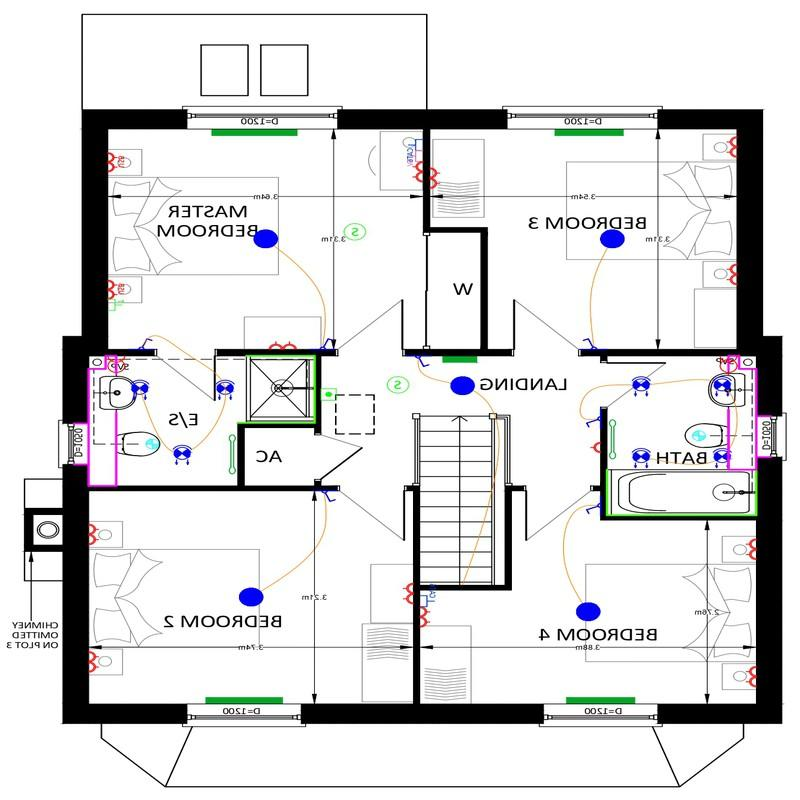Cat 6 Data Socket: (418, 587, 448, 609), (405, 137, 425, 151)
Ceiling Mounted Continuous Extract Fan With Boost Mode Activated By Light Switch: (684, 420, 710, 446)
Co-Ax TV Socket: (400, 150, 429, 163)
Double Socket: (396, 161, 423, 186), (738, 657, 757, 692), (427, 165, 448, 195), (416, 604, 441, 629), (722, 131, 739, 166), (88, 519, 104, 552), (262, 338, 304, 350), (87, 646, 102, 679), (723, 263, 737, 293), (401, 580, 415, 609), (744, 536, 757, 565)
Double SocketCeiling Mounted Continuous Extract Fan With Boost Mode Activated By: (144, 433, 165, 459)
Full Height Tiling: (606, 468, 759, 518), (244, 352, 318, 431)
Light Switch: (574, 330, 609, 349), (312, 488, 345, 505), (580, 494, 603, 518), (580, 410, 601, 436), (317, 326, 339, 350), (412, 353, 433, 376), (134, 331, 157, 349)
Low Energy Downlighter: (124, 372, 157, 412), (627, 368, 661, 403), (706, 371, 740, 406), (626, 443, 657, 476), (207, 379, 236, 409), (166, 439, 192, 472), (704, 446, 739, 467)
Low Energy Pendant Light: (564, 591, 621, 633), (246, 223, 290, 259), (592, 227, 639, 253), (236, 573, 272, 606), (444, 371, 483, 398)
Mains Wired Smoke Detector: (340, 215, 367, 247), (385, 372, 410, 402)
Programmable Room Thermostat: (318, 381, 343, 406)
Radiator: (545, 690, 646, 711), (539, 124, 629, 146), (204, 129, 304, 146), (192, 692, 293, 704), (440, 352, 487, 366)
Shaver Socket: (712, 354, 746, 376), (107, 354, 128, 378)
Single Socket: (586, 439, 601, 459)
USB Double Socket: (105, 150, 141, 174), (107, 268, 132, 299), (106, 300, 128, 316)
